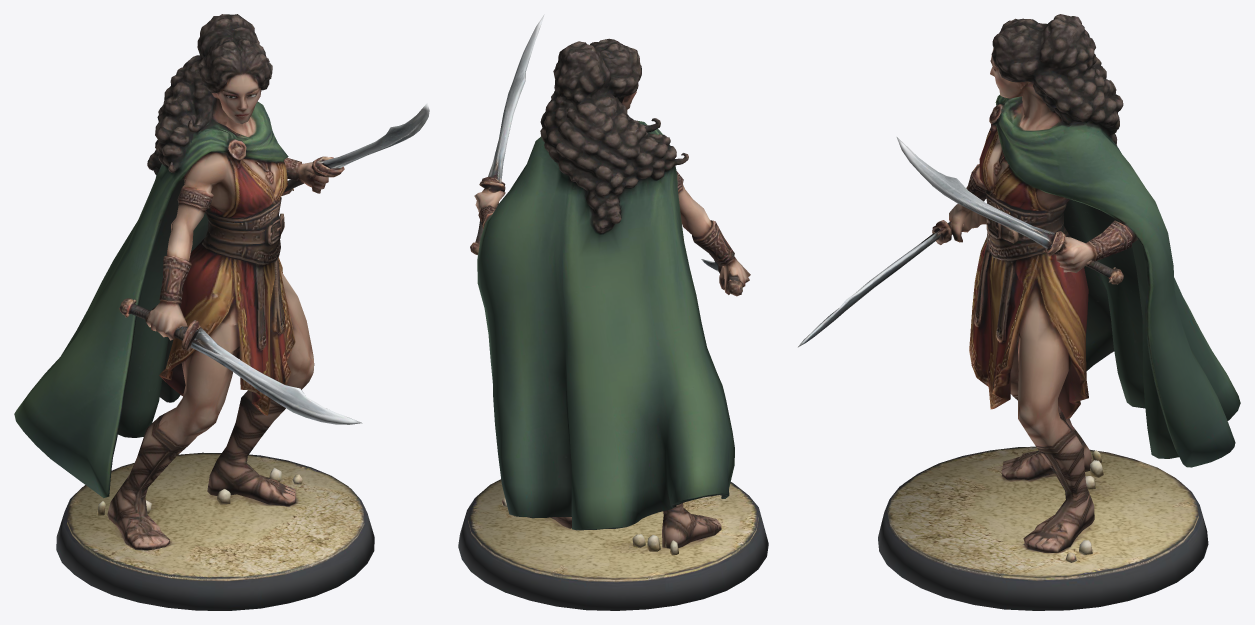
Rendered from bladedancer_alt1_female.glb.
3 views of the same model, side by side, from view 1: azimuth 30°, elevation 25°; view 2: azimuth 150°, elevation 25°; view 3: azimuth 270°, elevation 25° (orthographic). The views are drawn at different scales.
Parts seen in each view (by area): view 1: tripo_node_a3d4aaed-ad25-41b1-ace5-f3309ffa33d6; view 2: tripo_node_a3d4aaed-ad25-41b1-ace5-f3309ffa33d6; view 3: tripo_node_a3d4aaed-ad25-41b1-ace5-f3309ffa33d6.
Part boxes in pixels (x1,y1,x2,y2): tripo_node_a3d4aaed-ad25-41b1-ace5-f3309ffa33d6: (14, 14, 429, 610); tripo_node_a3d4aaed-ad25-41b1-ace5-f3309ffa33d6: (458, 14, 768, 610); tripo_node_a3d4aaed-ad25-41b1-ace5-f3309ffa33d6: (798, 14, 1240, 610).
Size of the model in its own units: 0.6167 by 0.998 by 0.7513.
1 material, 1 textured.
